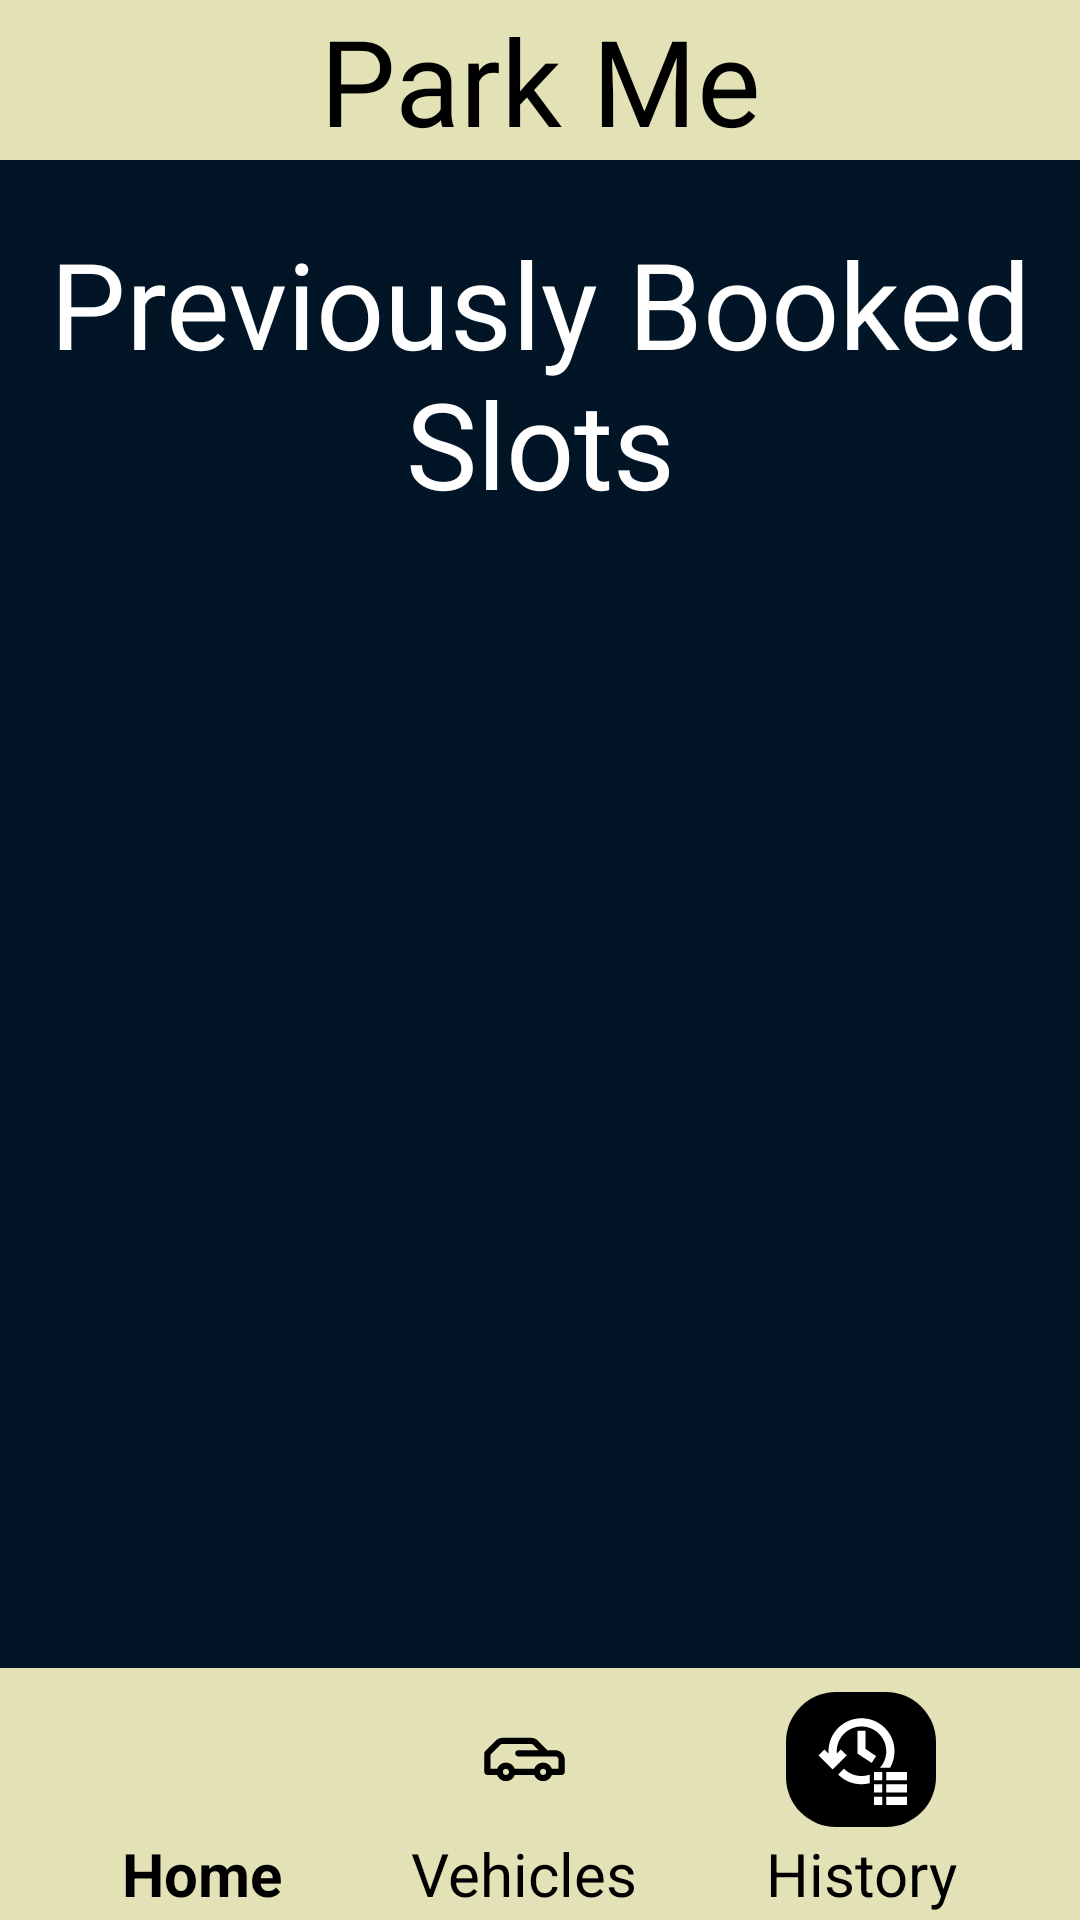

Named icons in this screenshot (1080*1920) and their bounding boxes, (x1, y1, x2, y2):
vehicle unselect: (484, 1737, 565, 1782)
